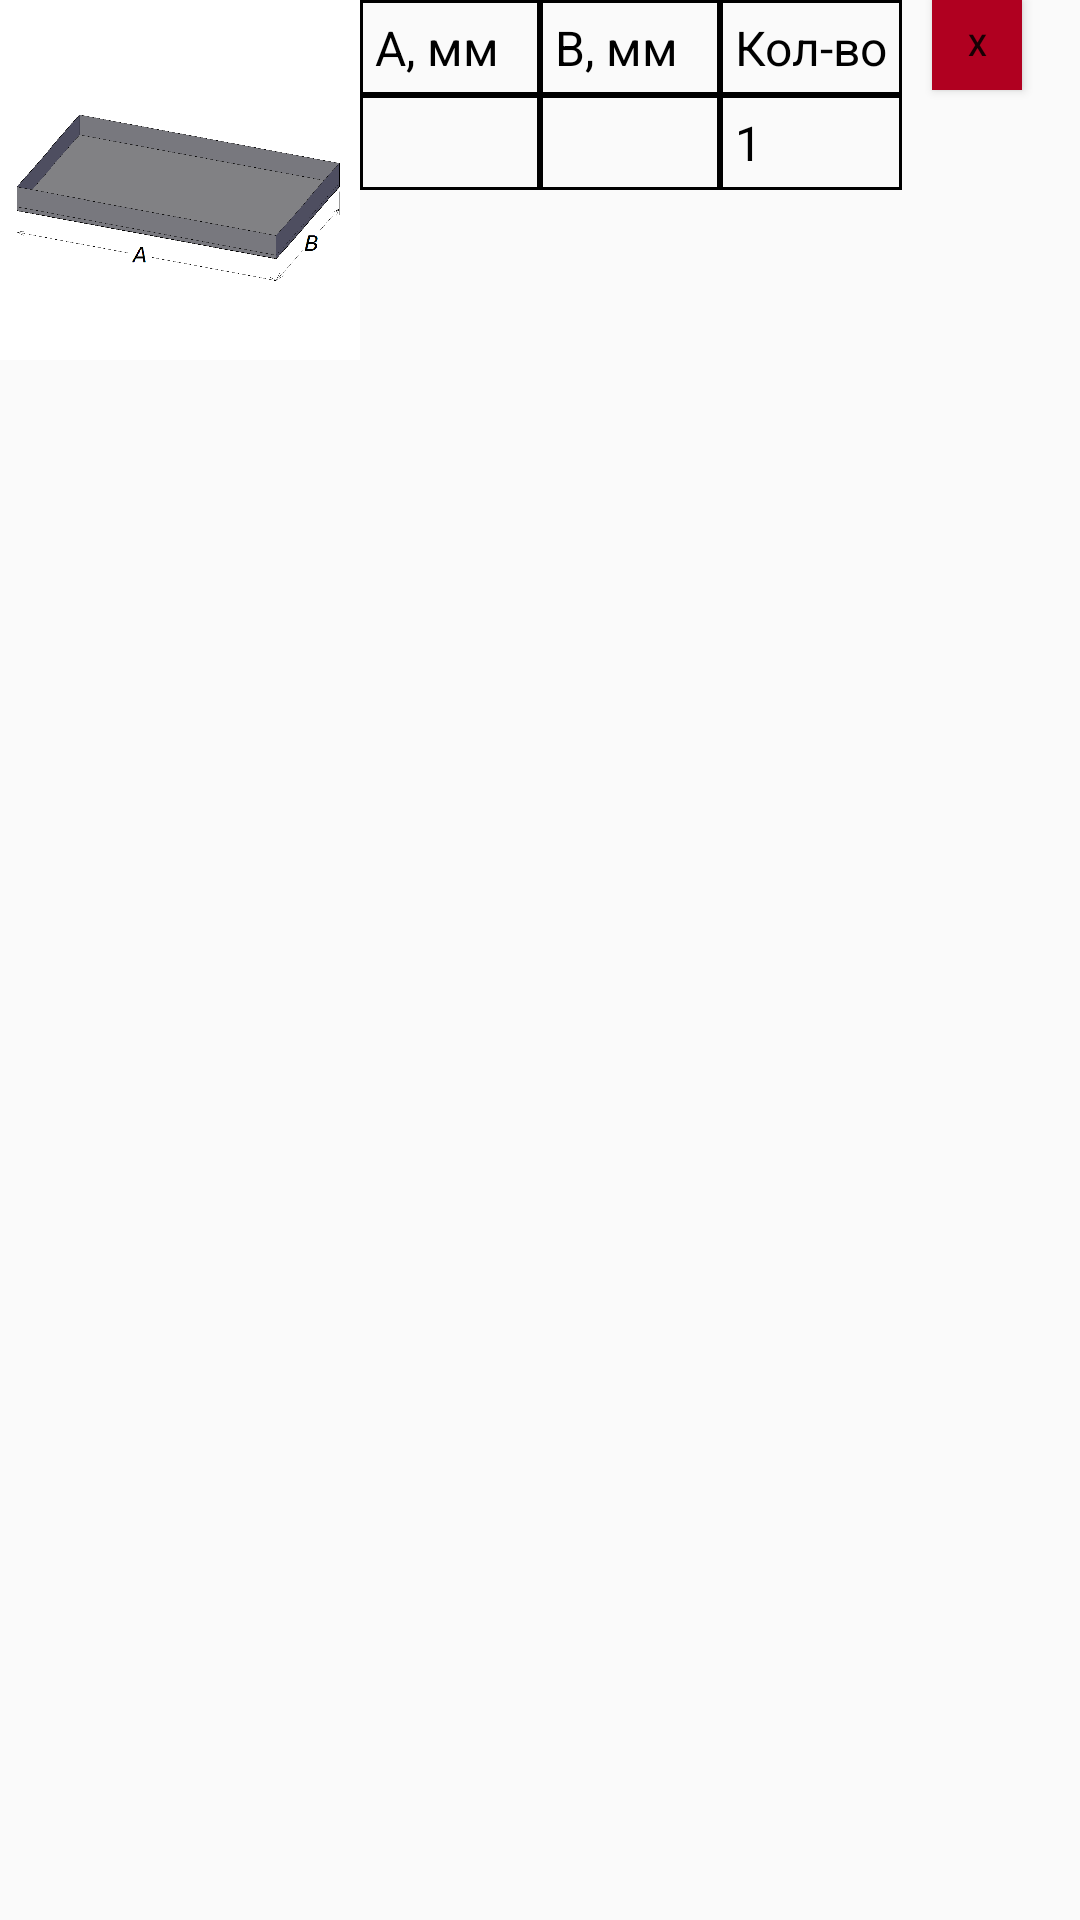

Named icons in this screenshot (1080w x 1920h) and their bounding boxes, (x1, y1, x2, y2):
cap rectangular correction: (17, 115, 340, 281)
